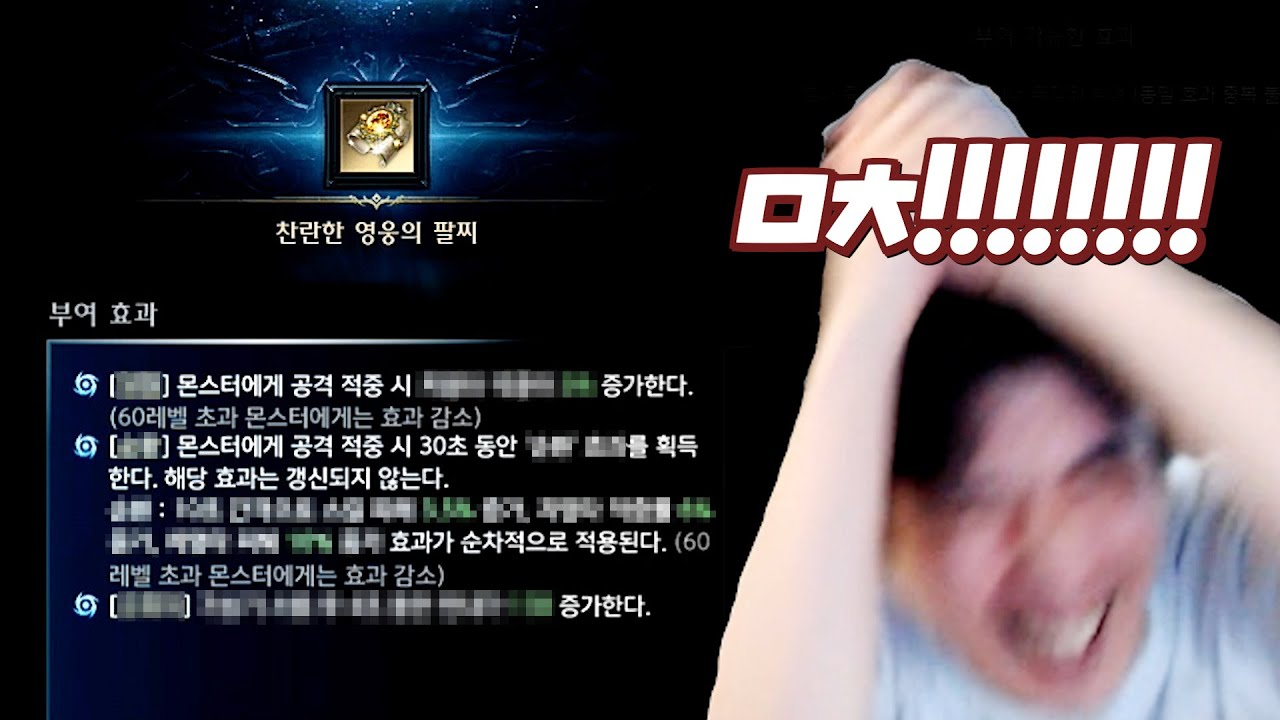!!!!!!!!: (910, 136, 1221, 268)
ㅁㅊ: (726, 157, 920, 257)
